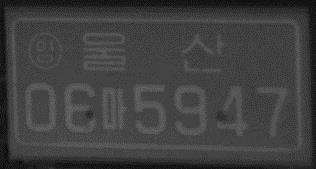0: (21, 81, 59, 135)
4: (215, 83, 249, 138)
5: (131, 82, 167, 135)
6: (62, 79, 98, 134)
7: (255, 84, 290, 139)
9: (172, 83, 208, 136)
마: (100, 84, 128, 133)
영: (27, 30, 64, 70)
울산_D: (80, 28, 226, 75)
